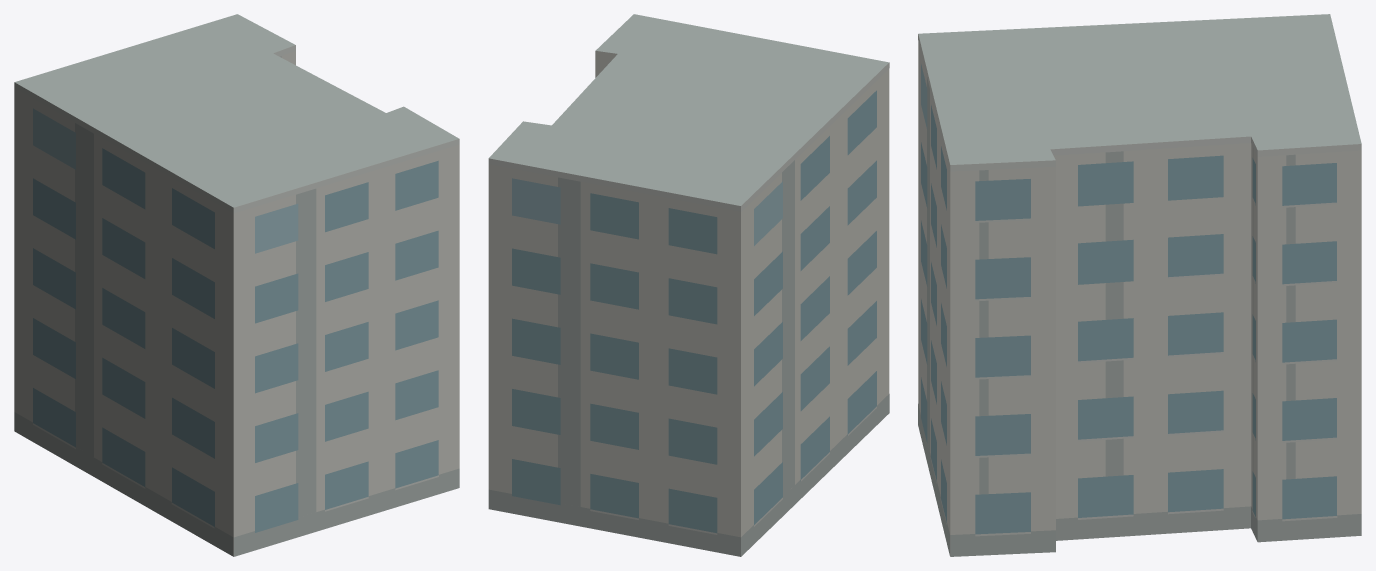
File: survey-upis-32887685.glb
The picture shows the model from 3 angles, left to right: view 1: azimuth 30°, elevation 25°; view 2: azimuth 150°, elevation 25°; view 3: azimuth 270°, elevation 25°; orthographic projection. The views are drawn at different scales.
Visible parts, largest first — view 1: survey-upis-32887685.tmp; view 2: survey-upis-32887685.tmp; view 3: survey-upis-32887685.tmp.
Boxes of the visible parts, x1,y1,x2,y2 form: survey-upis-32887685.tmp: (14, 14, 459, 556); survey-upis-32887685.tmp: (488, 14, 889, 556); survey-upis-32887685.tmp: (918, 14, 1361, 556).
Size of the model in its own units: 11.92 by 14.4 by 14.78.
